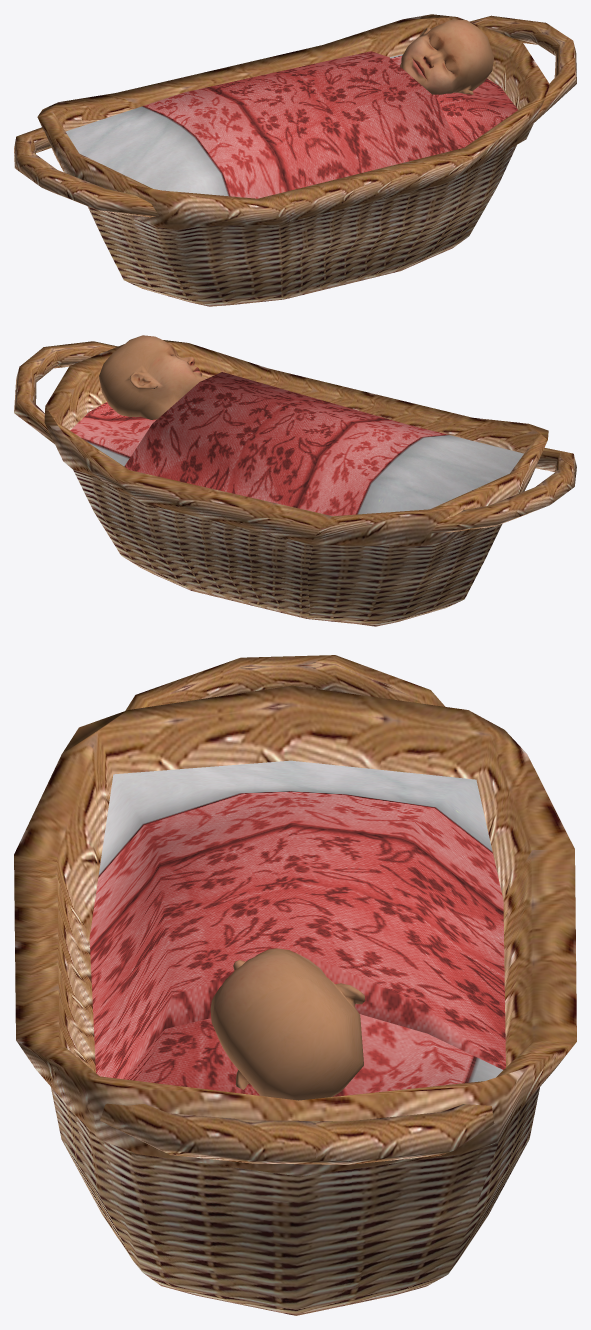
Rendered from M_Home_Garden_Laundry_Basket01.fbx.
3 renders of one model, top to bottom at view 1: azimuth 30°, elevation 25°; view 2: azimuth 150°, elevation 25°; view 3: azimuth 270°, elevation 25°, orthographic. The views are drawn at different scales.
Parts seen in each view (by area): view 1: M_Home_Garden_Laundry_Basket01; view 2: M_Home_Garden_Laundry_Basket01; view 3: M_Home_Garden_Laundry_Basket01.
Boxes of the visible parts, box(x1,y1,x2,y2) form: M_Home_Garden_Laundry_Basket01: box(14, 14, 576, 306); M_Home_Garden_Laundry_Basket01: box(14, 335, 576, 626); M_Home_Garden_Laundry_Basket01: box(14, 655, 576, 1315).
Bounding box in the file's own units: 123 × 42.4 × 60.47.
